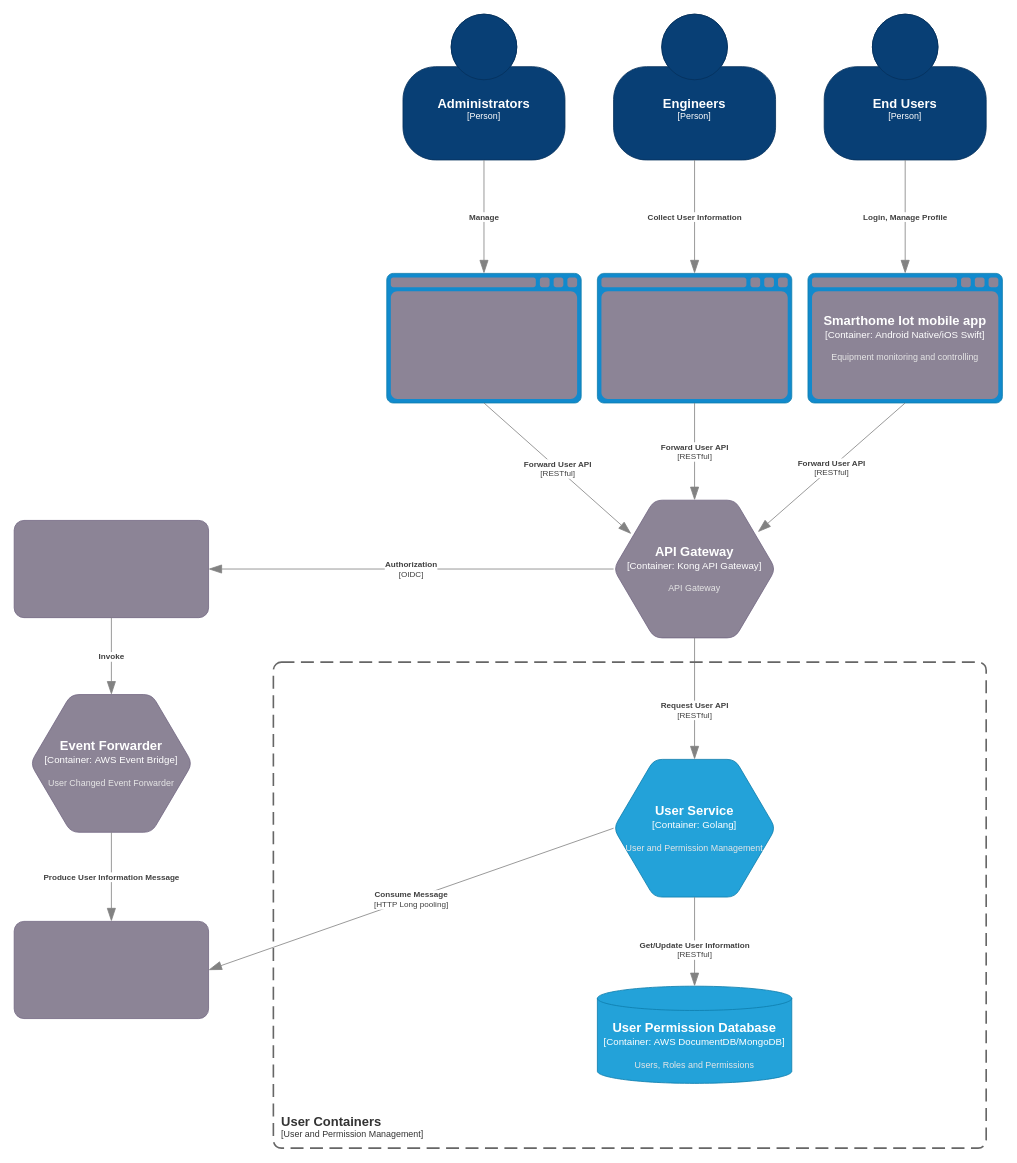
Some shapes in this 1017 by 1163 pixel diagram are drawn without their labels. The shapes that lost their labels are listed below. From the top down, each one's box as (x1, y1, x2, y2) in pixels, then its label:
(386, 273, 581, 403): Admin Portal [Container: ReactJS/CloudFront/S3] System management and monitoring
(597, 273, 792, 403): Admin App [Container: Android Native/iOS Swift] Equipment Management
(13, 520, 209, 618): AWS Cognito [Software System] User Management and Authorization
(13, 921, 209, 1019): AWS SQS [Software System] User Created and Updated Event
